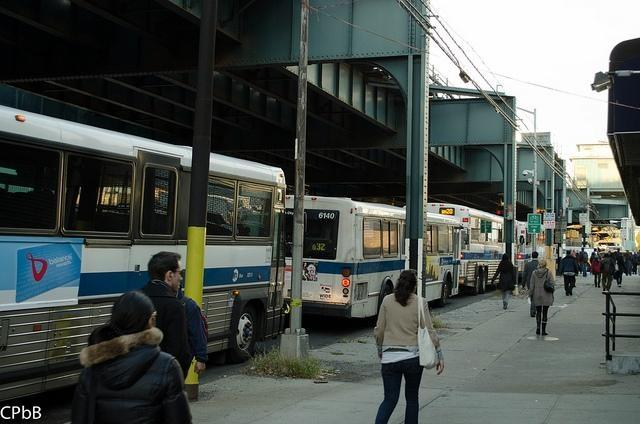bus: (0, 106, 285, 402), (284, 198, 408, 320), (423, 198, 504, 292), (425, 212, 462, 311)
